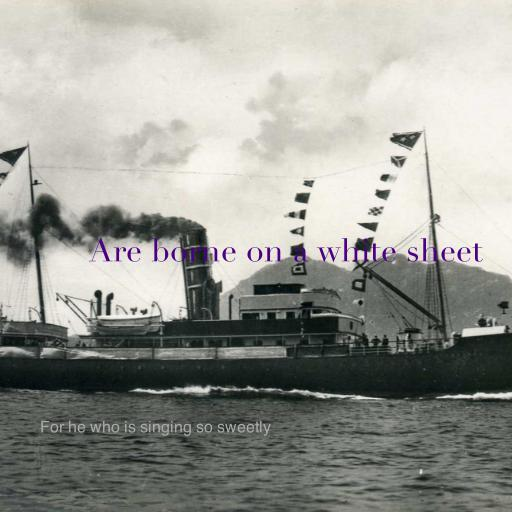Didot: (89, 237, 483, 263)
SignPainter: (39, 420, 271, 436)
